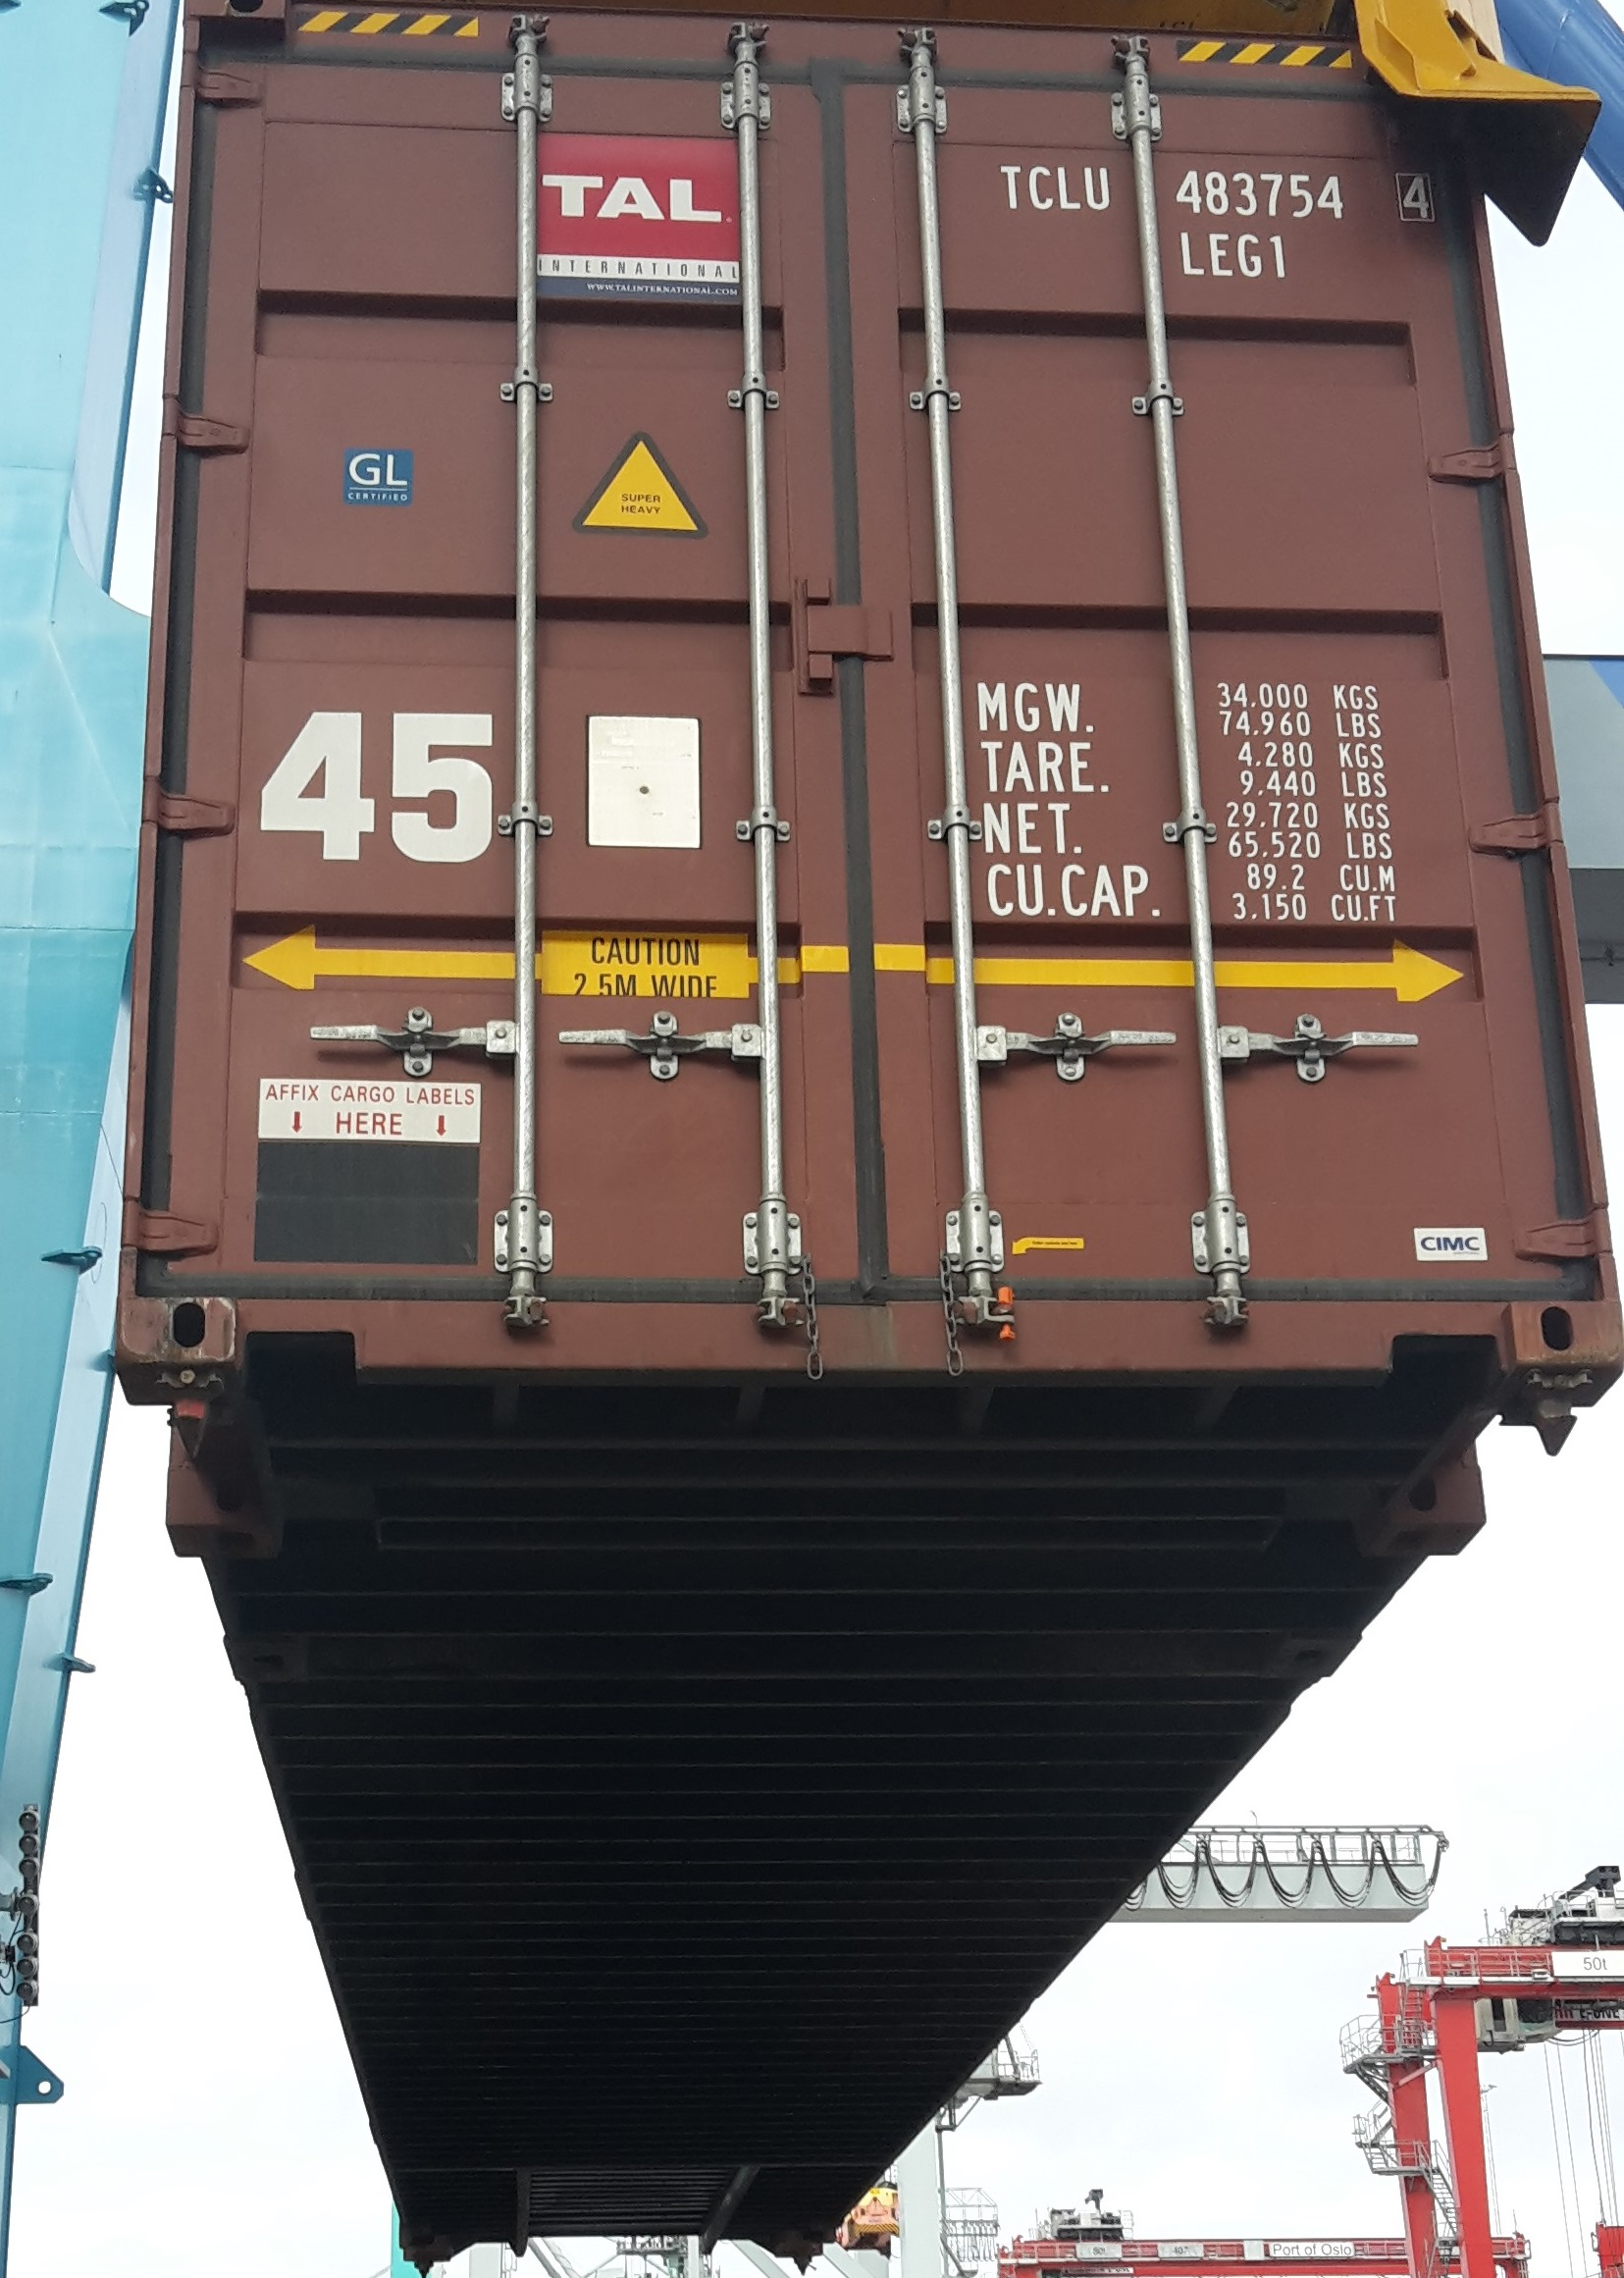container_door: (114, 40, 1568, 1369)
